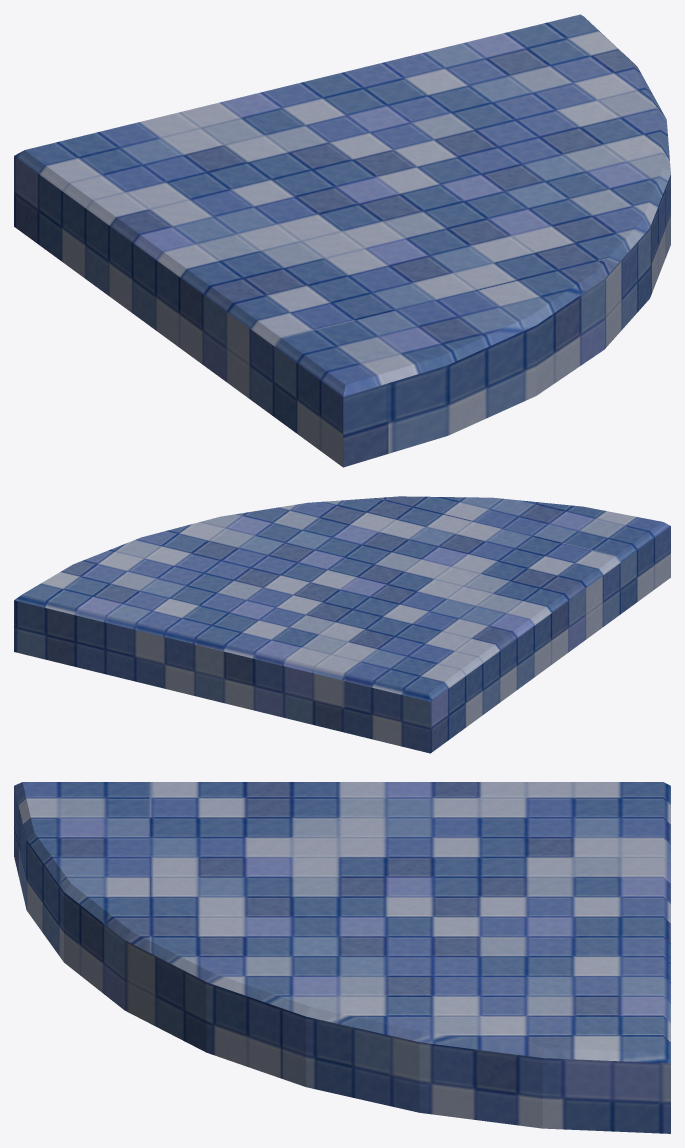
File: cornerRoundStep.glb
3 views of the same model, one above another, from view 1: azimuth 30°, elevation 25°; view 2: azimuth 150°, elevation 25°; view 3: azimuth 270°, elevation 25° (orthographic). The views are drawn at different scales.
Parts seen in each view (by area): view 1: Corner round step; view 2: Corner round step; view 3: Corner round step.
Part boxes in pixels (box(x1,y1,x2,y2)): Corner round step: box(14, 14, 670, 467); Corner round step: box(14, 496, 670, 753); Corner round step: box(14, 782, 670, 1133).
Size of the model in its own units: 1.27 by 0.166 by 1.27.
Materials: 1 (1 with a texture image).
